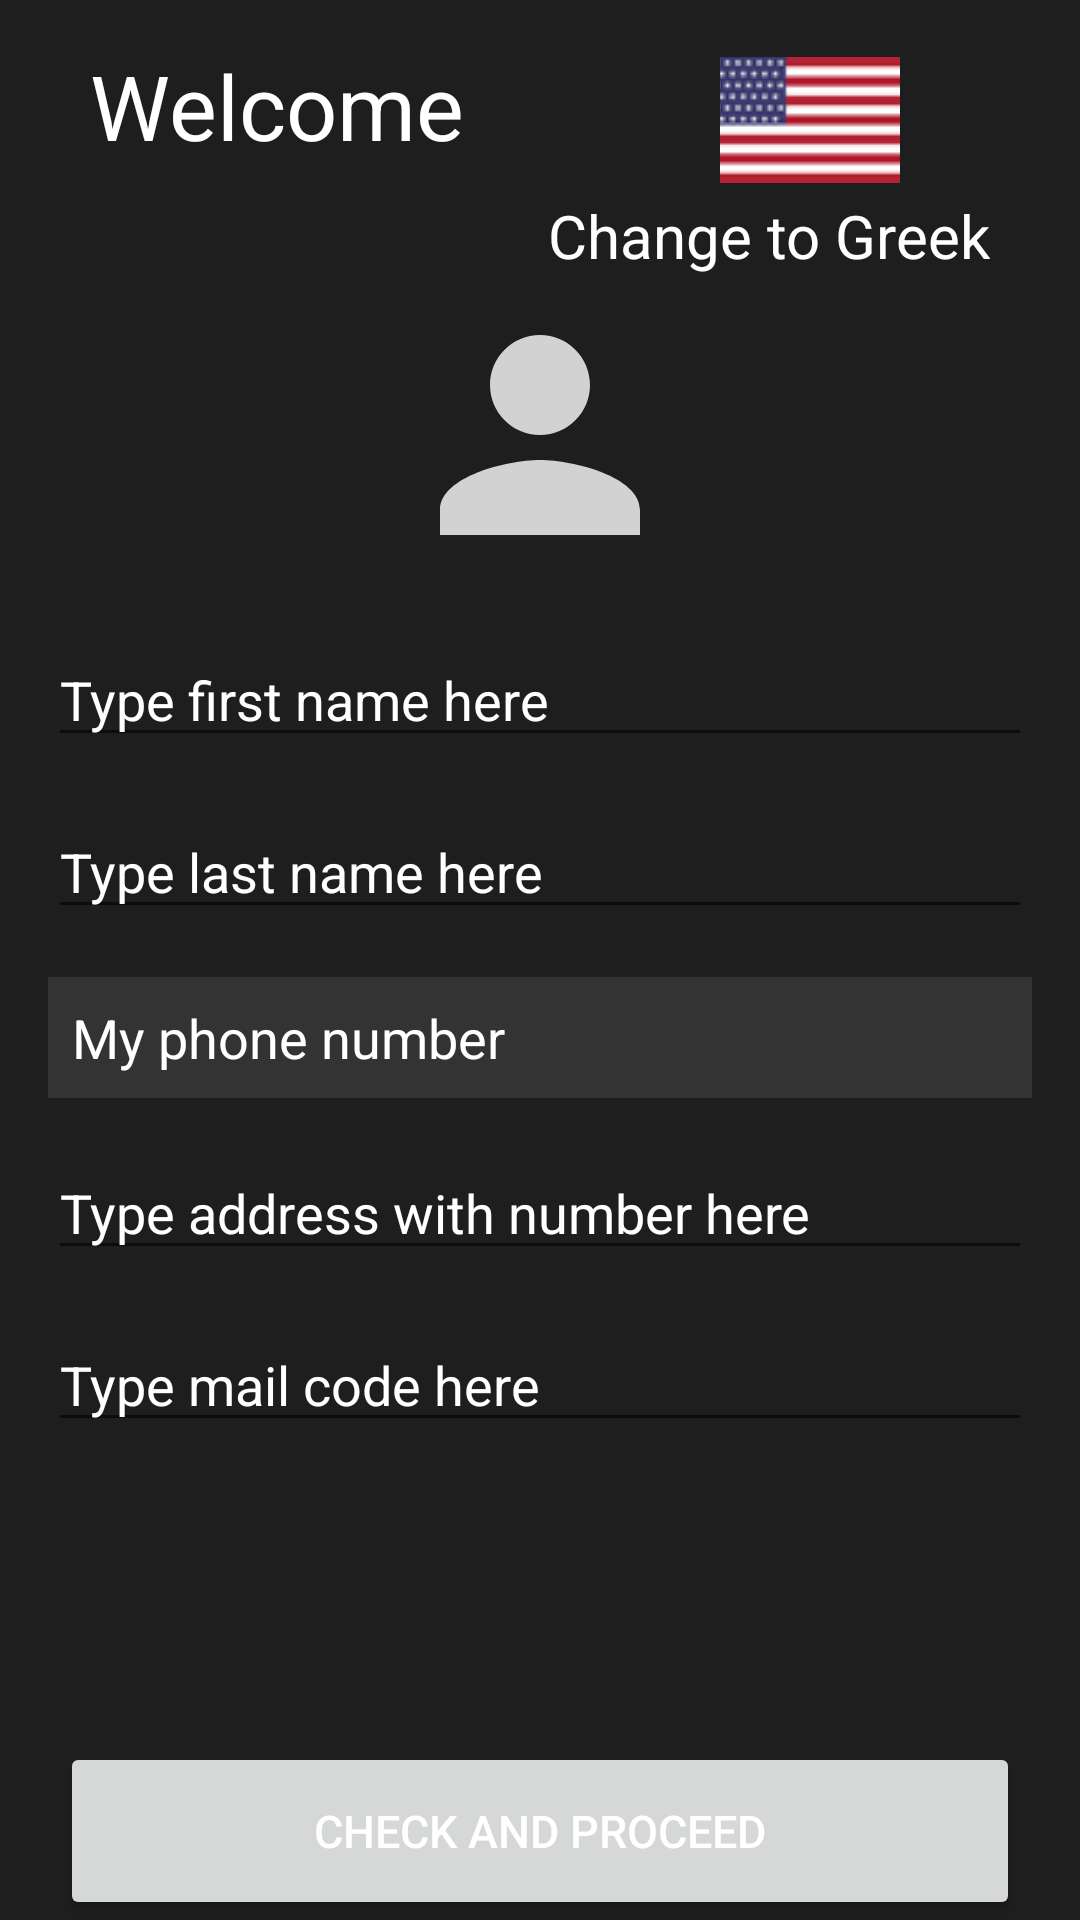

Named icons in this screenshot (1080 × 1920) and their centers, (x=x, y=y):
english: (x=810, y=120)
